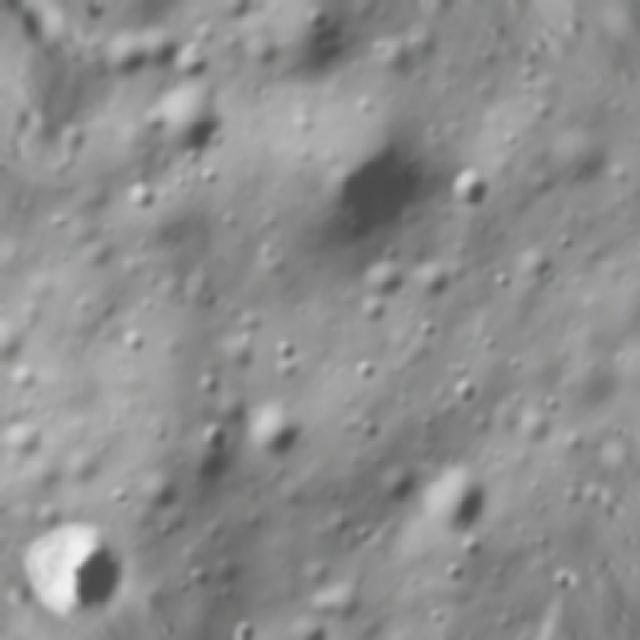crater: (300, 123, 438, 266), (16, 504, 146, 590), (395, 451, 499, 557), (142, 71, 236, 157), (234, 390, 317, 468), (441, 157, 502, 225), (114, 173, 177, 224), (350, 281, 399, 333), (107, 317, 150, 363), (443, 368, 486, 406), (188, 362, 228, 401), (546, 221, 585, 259), (592, 430, 619, 476), (298, 0, 334, 34), (0, 224, 26, 270), (269, 332, 302, 368), (416, 308, 450, 342), (435, 624, 502, 640), (473, 326, 504, 356), (352, 353, 380, 384), (535, 387, 562, 418), (634, 168, 640, 252)
